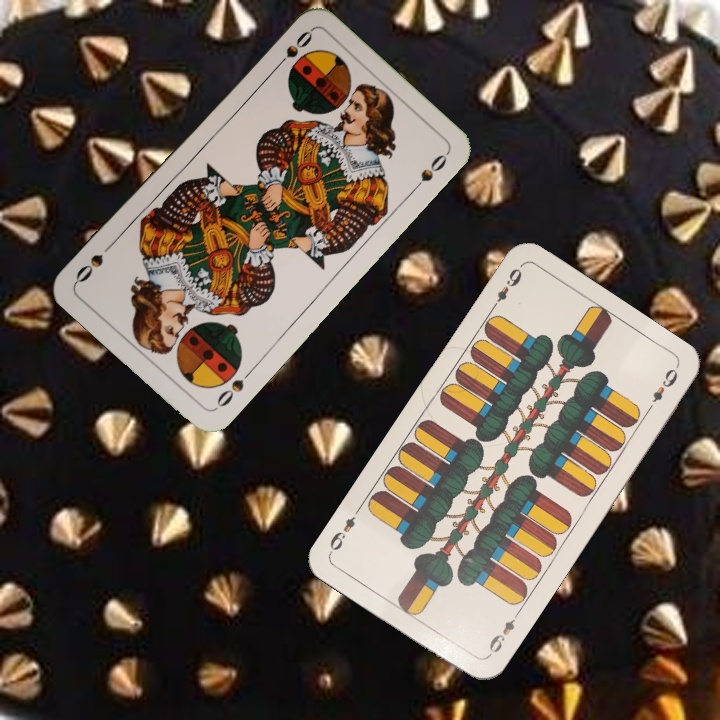E9: (483, 608, 522, 660), (486, 264, 525, 314)
SO: (269, 26, 315, 74), (212, 365, 256, 410)
